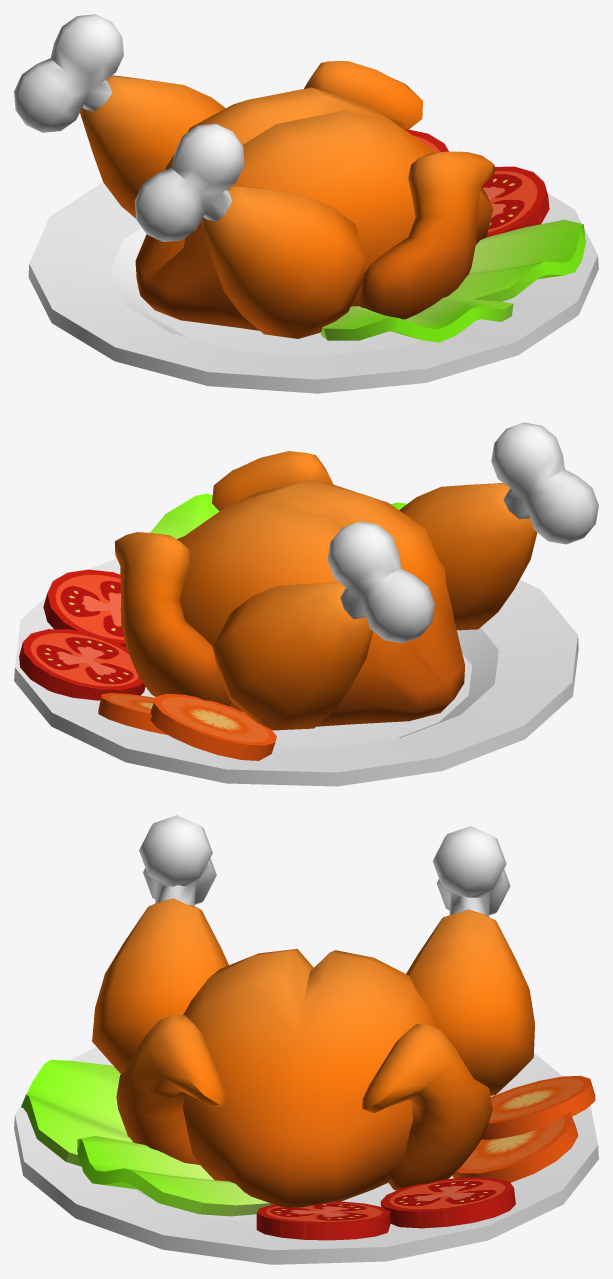
Rendered from Roasted_Chicken_01.fbx.
3 renders of one model, top to bottom at view 1: azimuth 30°, elevation 25°; view 2: azimuth 150°, elevation 25°; view 3: azimuth 270°, elevation 25°, orthographic. The views are drawn at different scales.
Visible parts, largest first — view 1: Roasted_Chicken_Chicken, Roasted_Chicken_01, Roasted_Chicken_01_Lettuce01, Roasted_Chicken_01_Lettuce02, Roasted_Chicken_01_Tomato01; view 2: Roasted_Chicken_Chicken, Roasted_Chicken_01, Roasted_Chicken_01_Tomato02, Roasted_Chicken_01_Cucamber02, Roasted_Chicken_01_Tomato01, Roasted_Chicken_01_Cucamber01, Roasted_Chicken_01_Lettuce01; view 3: Roasted_Chicken_Chicken, Roasted_Chicken_01, Roasted_Chicken_01_Lettuce01, Roasted_Chicken_01_Lettuce02, Roasted_Chicken_01_Tomato02, Roasted_Chicken_01_Cucamber02, Roasted_Chicken_01_Cucamber01, Roasted_Chicken_01_Tomato01.
Part boxes in pixels (box(x1,y1,x2,y2)): Roasted_Chicken_Chicken: box(14, 14, 494, 338); Roasted_Chicken_01: box(28, 182, 598, 393); Roasted_Chicken_01_Lettuce01: box(449, 219, 585, 301); Roasted_Chicken_01_Lettuce02: box(320, 296, 513, 342); Roasted_Chicken_01_Tomato01: box(481, 166, 549, 237); Roasted_Chicken_Chicken: box(115, 422, 598, 730); Roasted_Chicken_01: box(14, 558, 578, 786); Roasted_Chicken_01_Tomato02: box(19, 629, 145, 700); Roasted_Chicken_01_Cucamber02: box(150, 693, 276, 760); Roasted_Chicken_01_Tomato01: box(43, 569, 125, 647); Roasted_Chicken_01_Cucamber01: box(98, 693, 168, 735); Roasted_Chicken_01_Lettuce01: box(150, 493, 219, 538); Roasted_Chicken_Chicken: box(92, 815, 534, 1207); Roasted_Chicken_01: box(14, 1047, 598, 1264); Roasted_Chicken_01_Lettuce01: box(77, 1136, 273, 1216); Roasted_Chicken_01_Lettuce02: box(21, 1059, 132, 1166); Roasted_Chicken_01_Tomato02: box(380, 1177, 515, 1228); Roasted_Chicken_01_Cucamber02: box(482, 1075, 595, 1139); Roasted_Chicken_01_Cucamber01: box(452, 1112, 578, 1182); Roasted_Chicken_01_Tomato01: box(256, 1201, 390, 1240).
Bounding box in the file's own units: 75.28 × 37.95 × 75.28.
